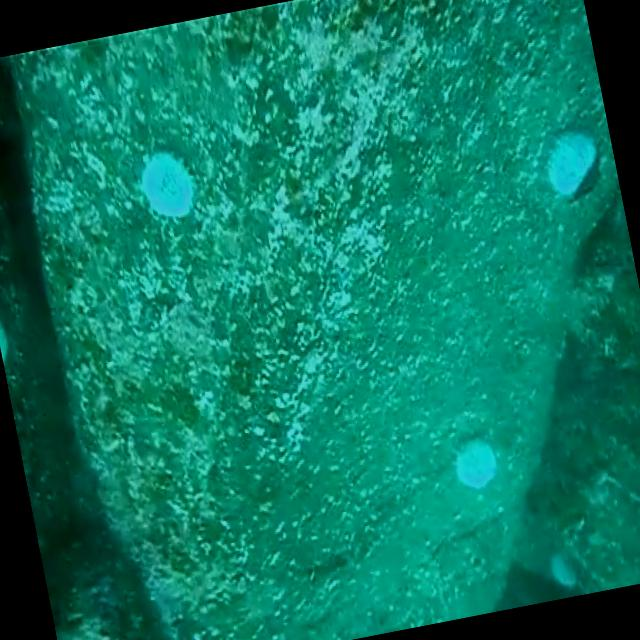Deniz Kestanesi: (128, 133, 206, 236), (534, 119, 604, 204), (446, 425, 508, 500), (541, 542, 589, 595)
